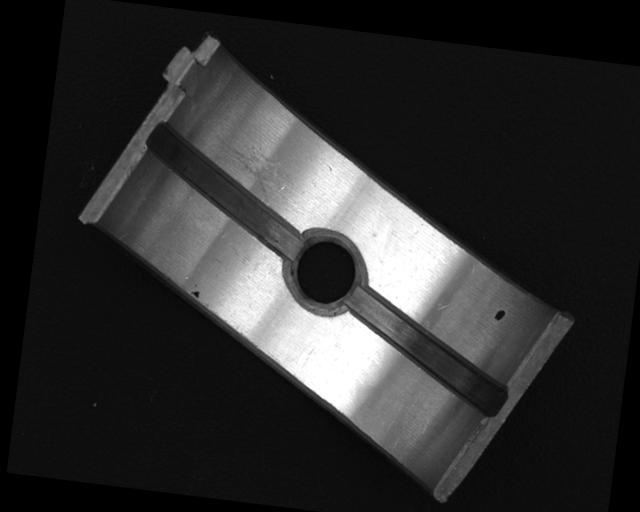blot: (493, 308, 507, 323), (189, 289, 201, 299)
gap: (134, 121, 313, 263), (339, 286, 512, 416)
hole: (283, 228, 367, 318)
scratch: (203, 132, 289, 210)
